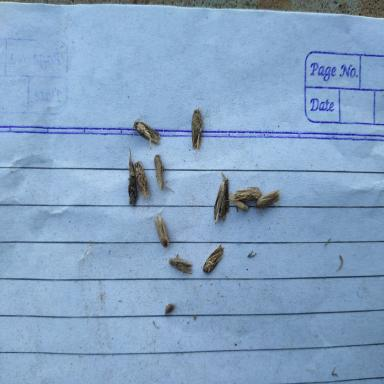pbw: (130, 113, 161, 151), (154, 153, 174, 193), (134, 160, 149, 212), (214, 172, 229, 224), (191, 106, 204, 160), (126, 147, 137, 207), (203, 244, 224, 274), (252, 189, 281, 209), (154, 215, 170, 249), (168, 254, 192, 274), (234, 186, 262, 202), (228, 192, 249, 211)
